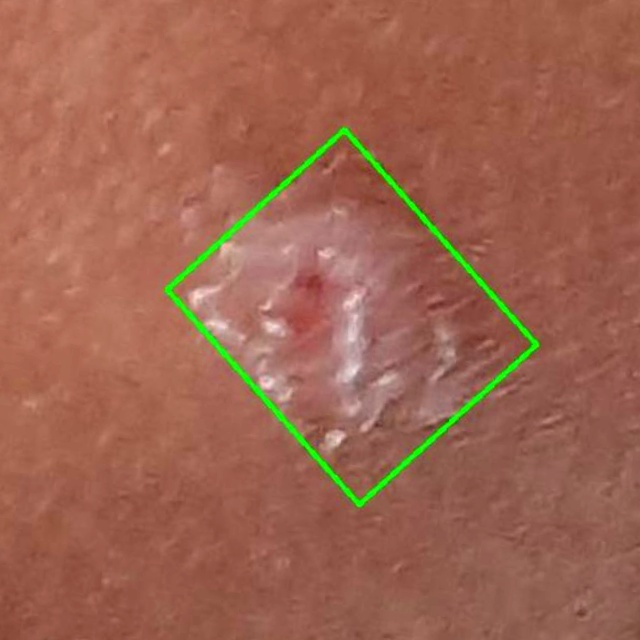Contact Dermatitis: (165, 129, 535, 503)
